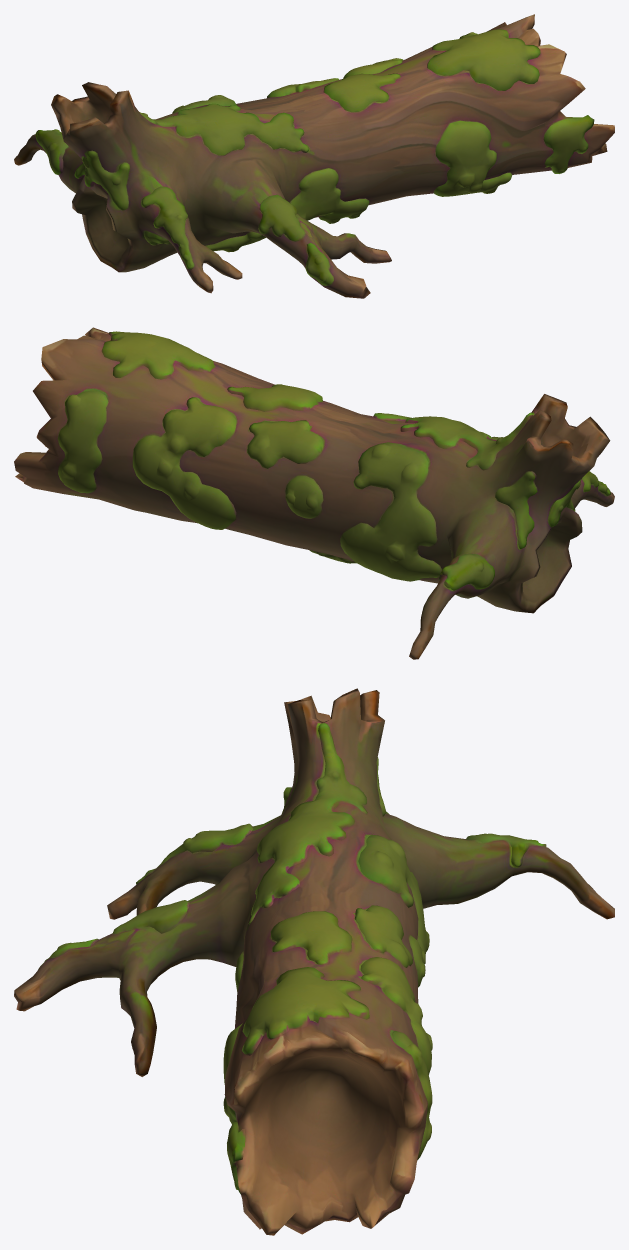
Rendered from FallenLog.fbx.
3 renders of one model, top to bottom at view 1: azimuth 30°, elevation 25°; view 2: azimuth 150°, elevation 25°; view 3: azimuth 270°, elevation 25°, orthographic. The views are drawn at different scales.
Visible parts, largest first — view 1: FallenLog; view 2: FallenLog; view 3: FallenLog.
Part boxes in pixels (x1=…): FallenLog: x1=14, y1=14, x2=614, y2=298; FallenLog: x1=14, y1=327, x2=614, y2=659; FallenLog: x1=14, y1=688, x2=614, y2=1235.
Bounding box in the file's own units: 4 × 1.33 × 2.91.
